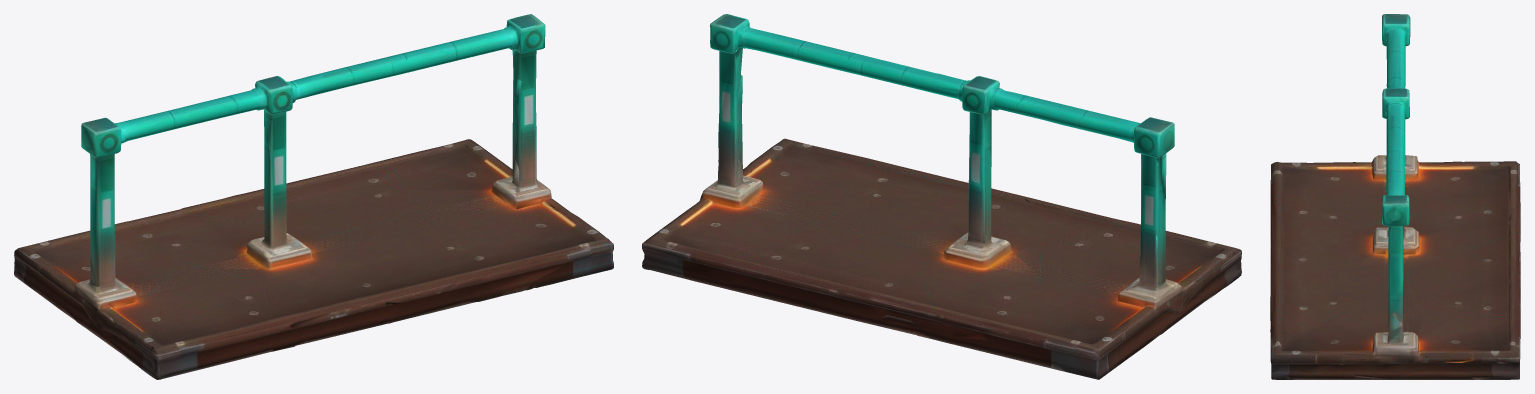
File: railing-barrier.glb
The picture shows the model from 3 angles, left to right: view 1: azimuth 30°, elevation 25°; view 2: azimuth 150°, elevation 25°; view 3: azimuth 270°, elevation 25°; orthographic projection. The views are drawn at different scales.
Visible parts, largest first — view 1: Mesh_0; view 2: Mesh_0; view 3: Mesh_0.
Boxes of the visible parts, x1,y1,x2,y2 form: Mesh_0: (14, 14, 613, 379); Mesh_0: (642, 14, 1241, 379); Mesh_0: (1270, 14, 1520, 379).
Bounding box in the file's own units: 2.63 × 1.1 × 1.43.
Materials: 1 (1 with a texture image).
